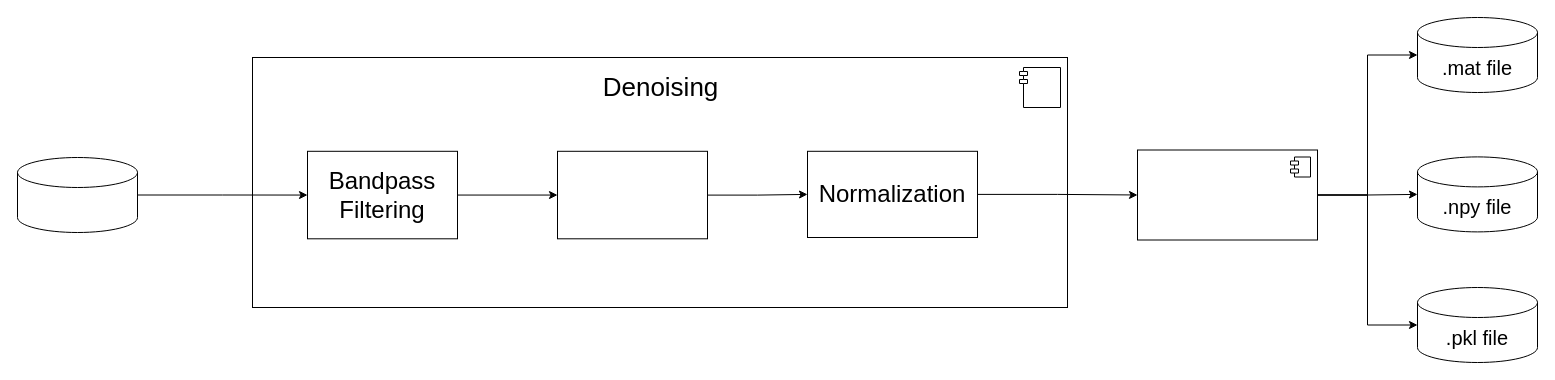
Image size: 1555x380. Some labels were removed from this diagram. Each missing label, with the box of its shape:
. xdf file: (16, 156, 138, 232)
ICA based Removal: (556, 150, 708, 239)
Segmentation: (1136, 149, 1318, 240)
